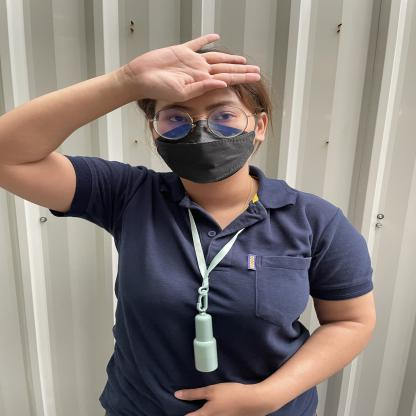Sick: (49, 9, 289, 121)
